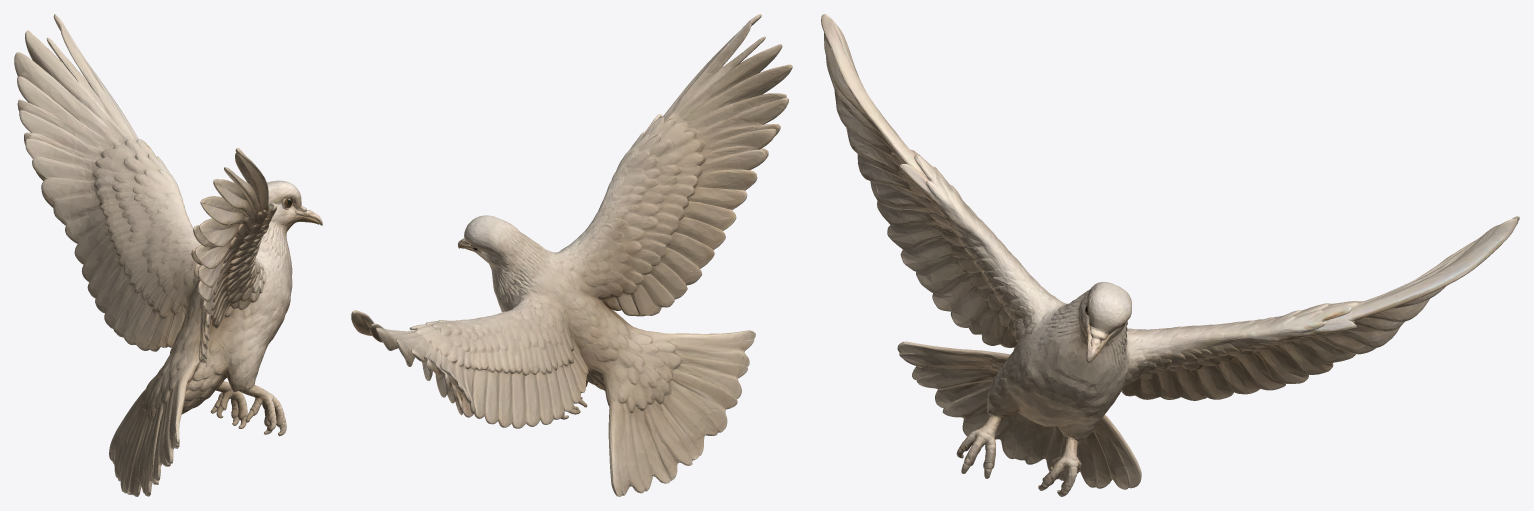
File: dove-fly.glb
3 renders of one model, left to right at view 1: azimuth 30°, elevation 25°; view 2: azimuth 150°, elevation 25°; view 3: azimuth 270°, elevation 25°, orthographic. The views are drawn at different scales.
Visible parts, largest first — view 1: meshes[0]; view 2: meshes[0]; view 3: meshes[0].
Boxes of the visible parts, box(x1,y1,x2,y2) form: meshes[0]: box(14, 14, 322, 496); meshes[0]: box(351, 14, 792, 496); meshes[0]: box(821, 14, 1519, 496).
Bounding box in the file's own units: 0.3102 × 0.5191 × 0.6964.
1 material, 1 textured.
